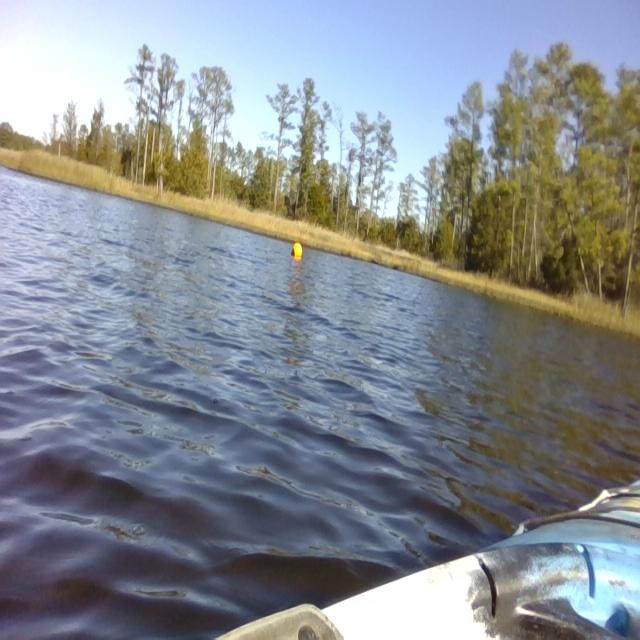Buoy: (290, 238, 304, 262)
